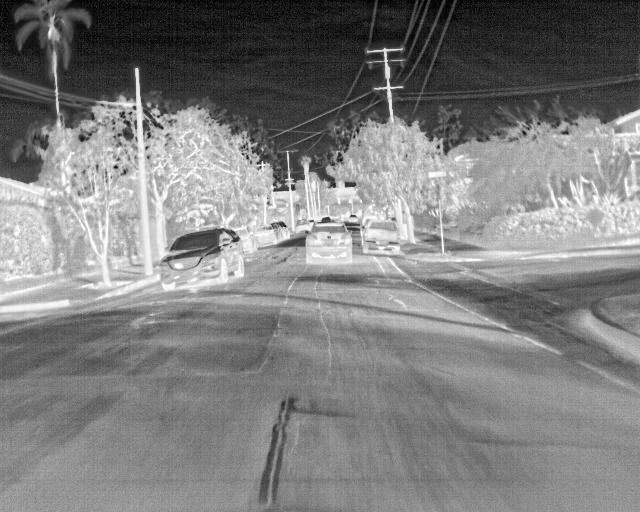car: (162, 226, 244, 291), (305, 221, 352, 260), (360, 219, 403, 254), (232, 224, 255, 252), (255, 222, 281, 245), (273, 220, 288, 240), (361, 217, 375, 230), (297, 219, 310, 232), (345, 212, 358, 224), (318, 216, 330, 225)
